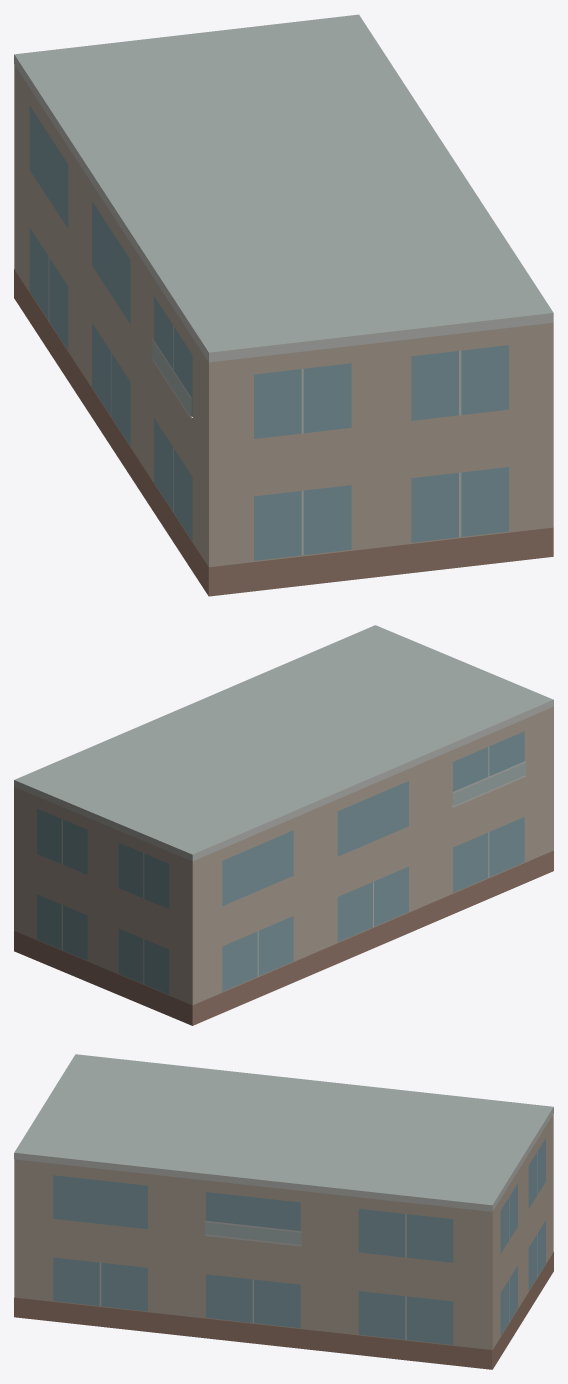
Rendered from survey-upis-32809460.glb.
3 renders of one model, top to bottom at view 1: azimuth 30°, elevation 25°; view 2: azimuth 150°, elevation 25°; view 3: azimuth 270°, elevation 25°, orthographic. The views are drawn at different scales.
Visible parts, largest first — view 1: survey-upis-32809460.tmp; view 2: survey-upis-32809460.tmp; view 3: survey-upis-32809460.tmp.
Boxes of the visible parts, box(x1,y1,x2,y2) form: survey-upis-32809460.tmp: box(14, 14, 553, 596); survey-upis-32809460.tmp: box(14, 625, 553, 1025); survey-upis-32809460.tmp: box(14, 1054, 553, 1369).
Size of the model in its own units: 12.04 by 6.1 by 18.15.
